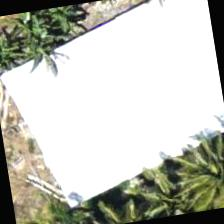Kelapa_Sawit: (174, 129, 223, 214)
